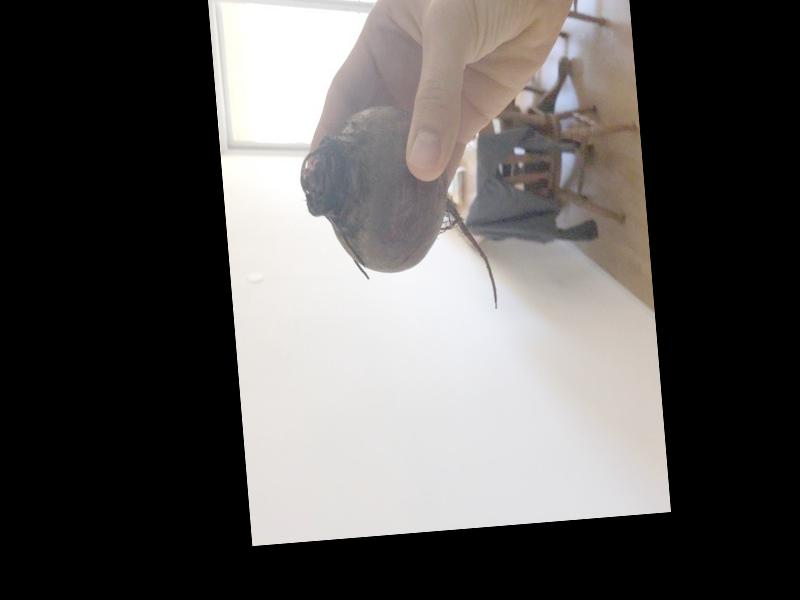Beet: (295, 98, 498, 323)
